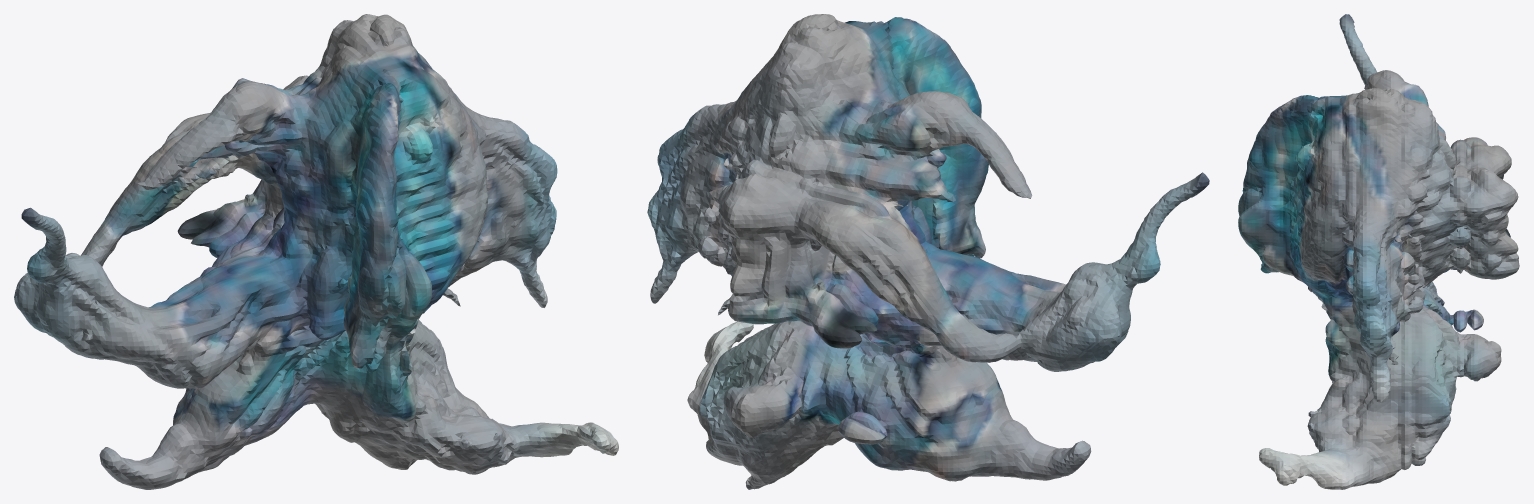
File: echo-fry.glb
3 views of the same model, side by side, from view 1: azimuth 30°, elevation 25°; view 2: azimuth 150°, elevation 25°; view 3: azimuth 270°, elevation 25° (orthographic). The views are drawn at different scales.
Visible parts, largest first — view 1: world; view 2: world; view 3: world.
Part boxes in pixels (x1=…): world: x1=14, y1=14, x2=618, y2=489; world: x1=647, y1=14, x2=1209, y2=489; world: x1=1238, y1=14, x2=1519, y2=489.
Bounding box in the file's own units: 0.9604 × 0.7838 × 0.553.
